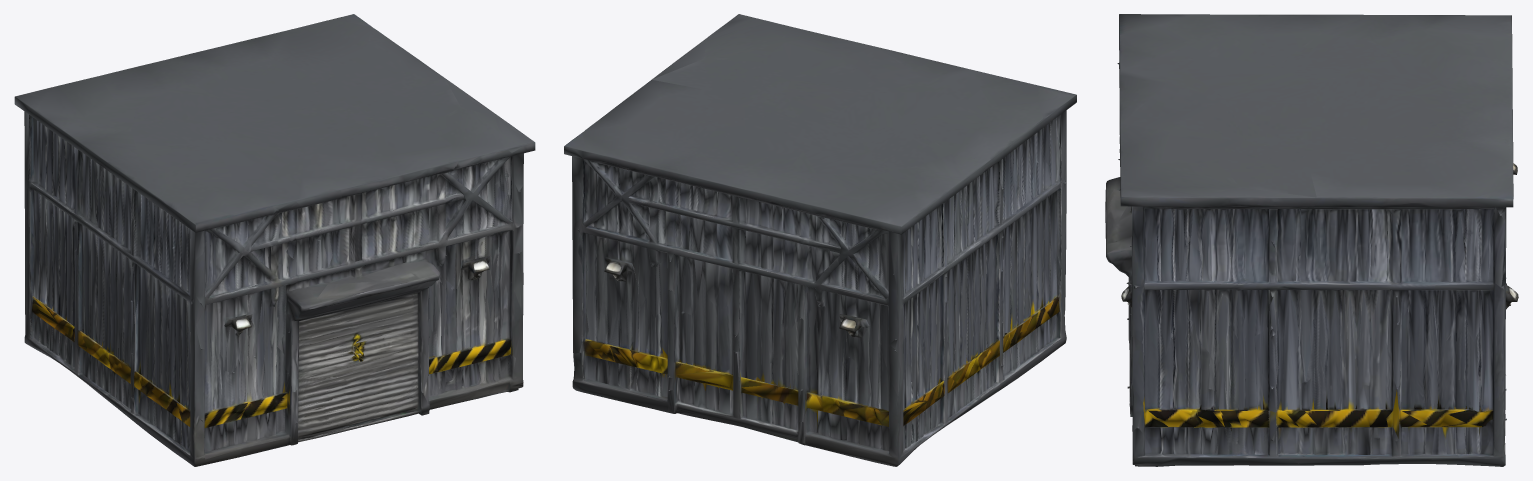
The model's file is bld_ind_shed.fbx.
The picture shows the model from 3 angles, left to right: view 1: azimuth 30°, elevation 25°; view 2: azimuth 150°, elevation 25°; view 3: azimuth 270°, elevation 25°; orthographic projection. The views are drawn at different scales.
Parts seen in each view (by area): view 1: bld_ind_shed_LOD0; view 2: bld_ind_shed_LOD0; view 3: bld_ind_shed_LOD0.
Part boxes in pixels (left/top/right/bottom): bld_ind_shed_LOD0: left=14, top=14, right=535, bottom=466; bld_ind_shed_LOD0: left=564, top=14, right=1076, bottom=466; bld_ind_shed_LOD0: left=1105, top=14, right=1518, bottom=466.
Size of what is drawn, in the model's own units: 0.979 by 0.6879 by 0.9316.
